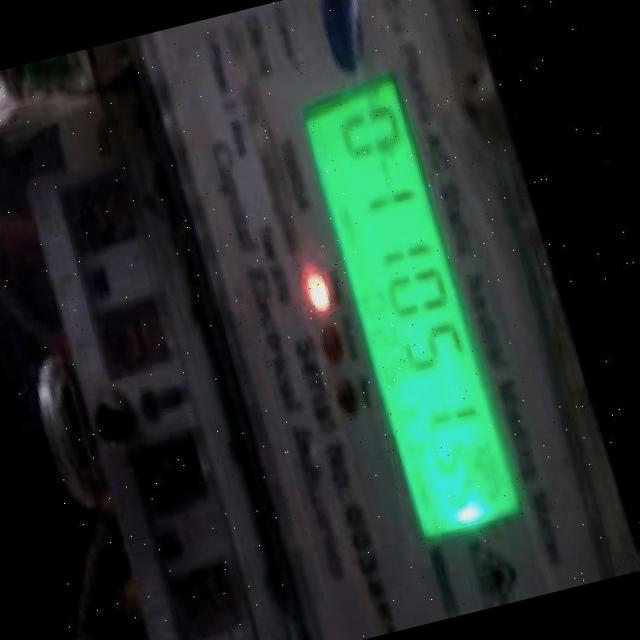LCD: (292, 61, 526, 560)
